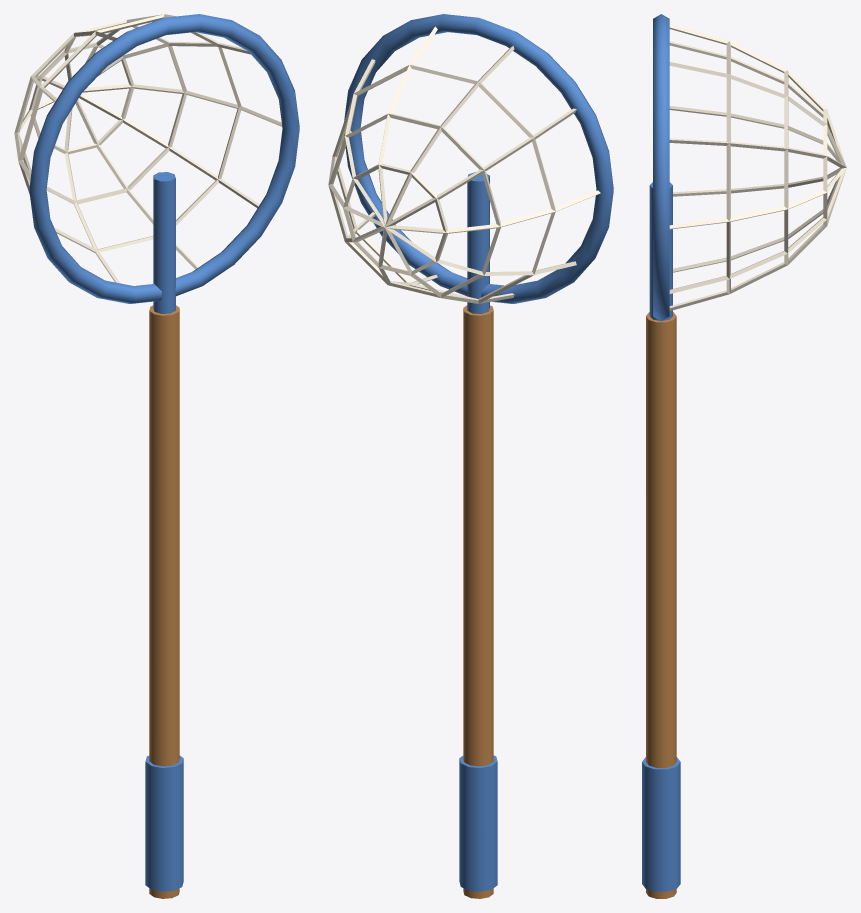
File: rede.glb
3 renders of one model, left to right at view 1: azimuth 30°, elevation 25°; view 2: azimuth 150°, elevation 25°; view 3: azimuth 270°, elevation 25°, orthographic.
Visible parts, largest first — view 1: rede; view 2: rede; view 3: rede.
Boxes of the visible parts, x1,y1,x2,y2 form: rede: [14, 14, 299, 898]; rede: [328, 14, 613, 898]; rede: [642, 14, 846, 898].
Size of the model in its own units: 0.32 by 0.99 by 0.2125.
